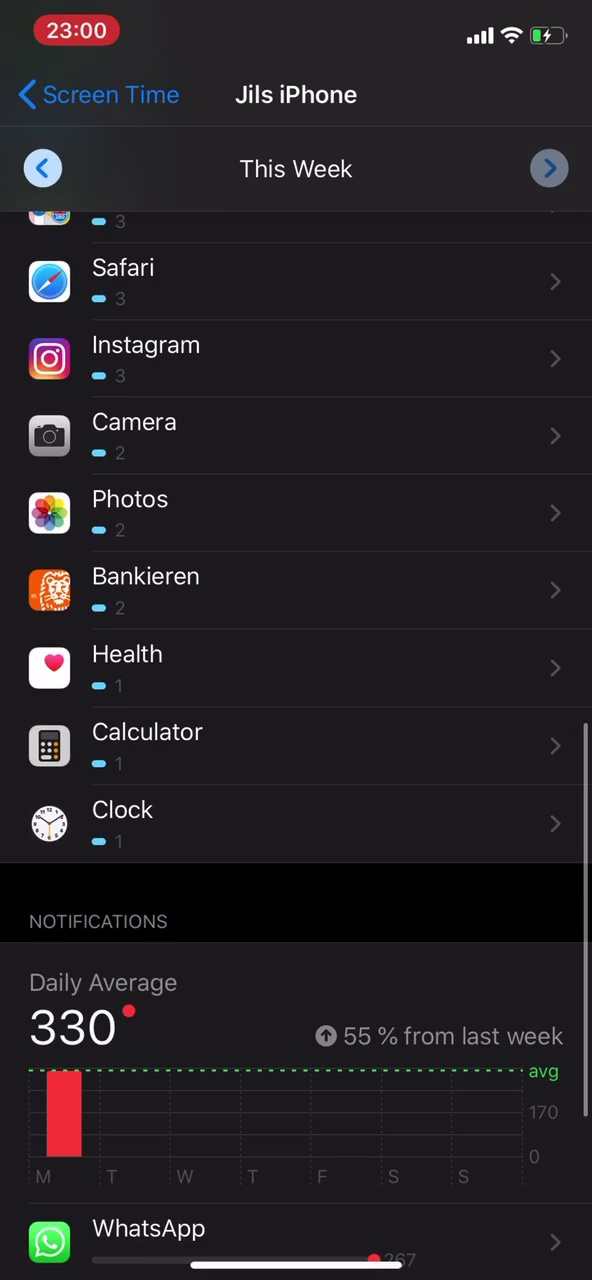not_over: (18, 902, 245, 1058)
pick_app: (18, 324, 211, 399), (20, 707, 211, 781), (18, 557, 209, 630), (20, 478, 194, 554), (18, 402, 190, 477), (17, 249, 186, 318), (12, 639, 214, 696), (25, 786, 174, 860)
week: (223, 144, 364, 193)
